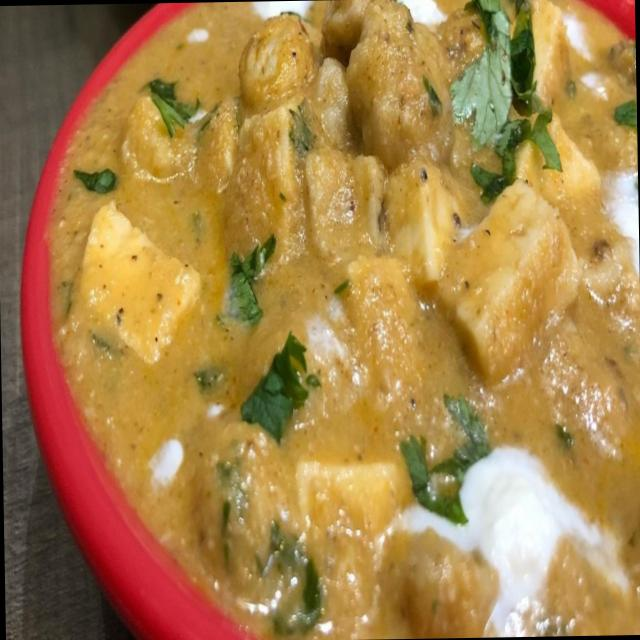ShahiPaneer: (18, 1, 610, 640)
